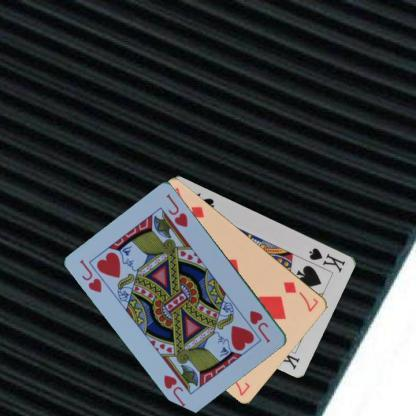7d: (280, 278, 321, 314)
Jh: (77, 257, 104, 294), (246, 308, 272, 344)
Ks: (306, 245, 347, 274)
